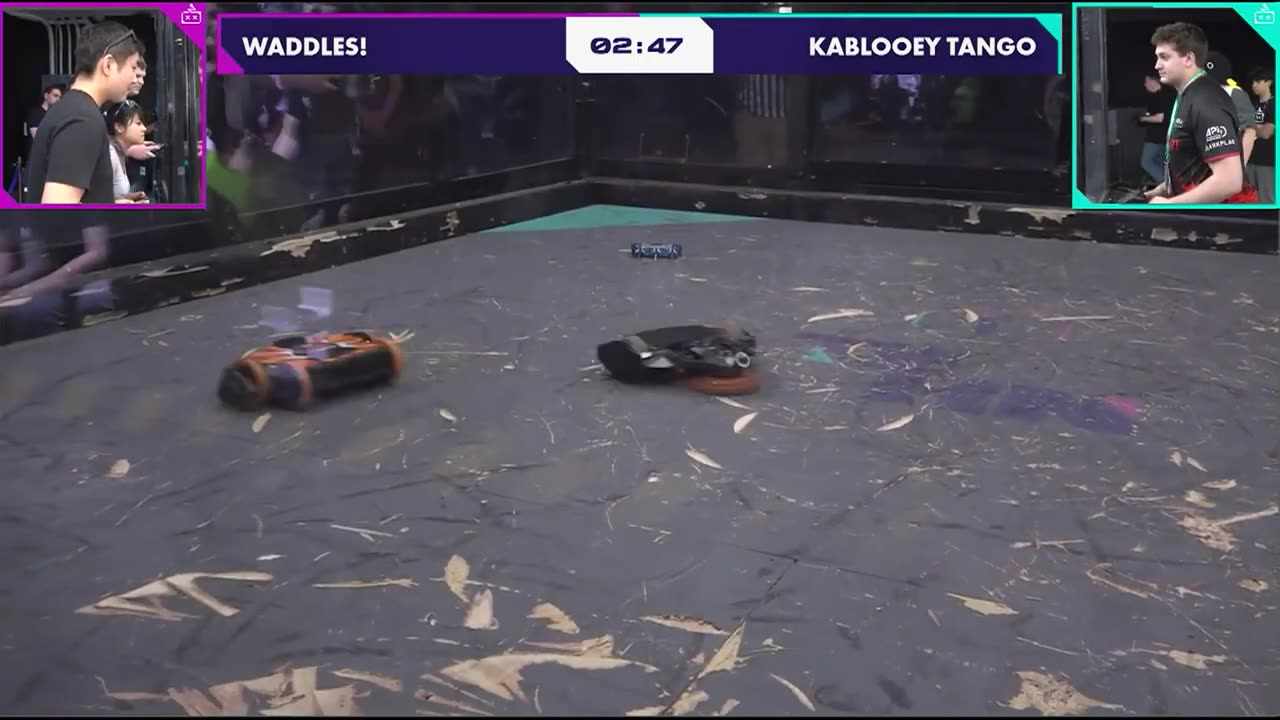combatbot: (218, 326, 416, 413), (595, 320, 762, 397)
minibot: (628, 240, 684, 263)
